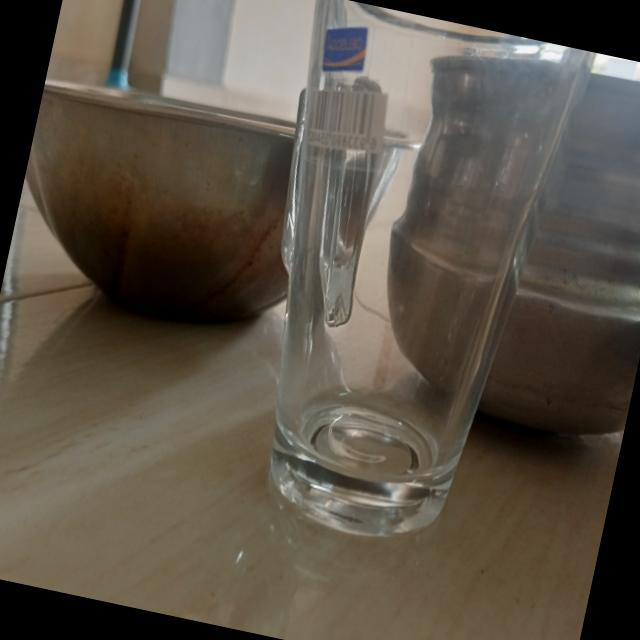glass-VX4N: (203, 0, 600, 569)
